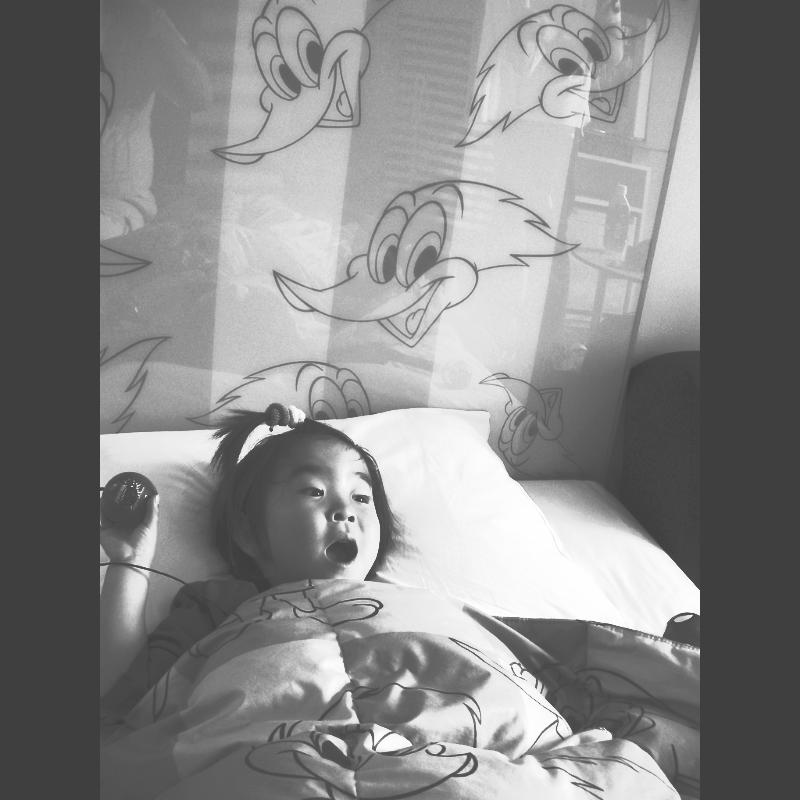pillow: (101, 430, 636, 628)
